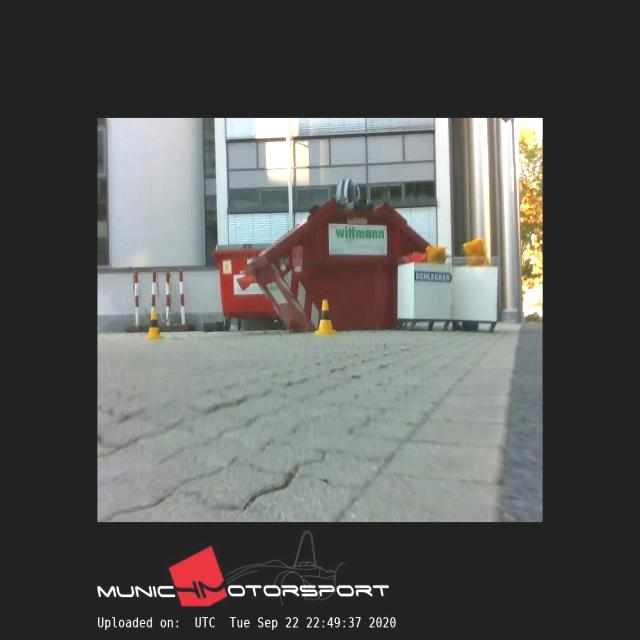yellow_cone: (315, 300, 335, 334), (146, 312, 162, 339)
